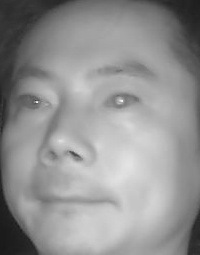eye: (14, 91, 51, 114), (101, 90, 139, 112)
mouth: (36, 182, 116, 223)
